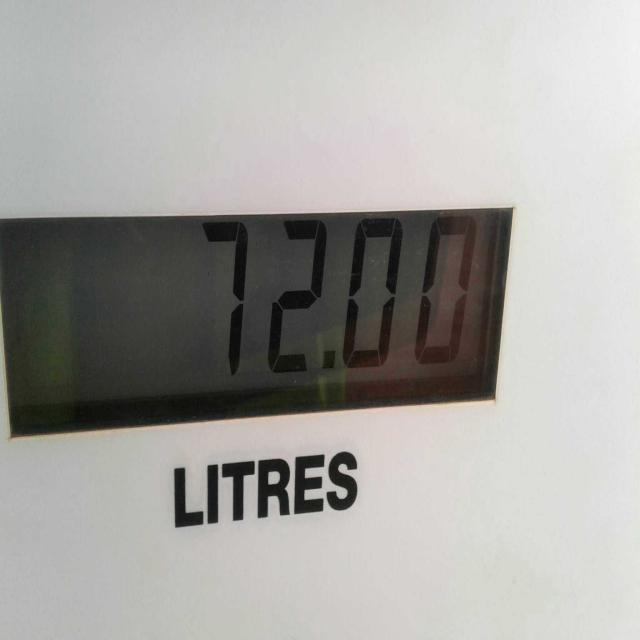.: (321, 345, 336, 373)
0: (416, 214, 472, 361), (348, 224, 400, 363)
2: (271, 216, 328, 366)
7: (203, 224, 246, 380)
